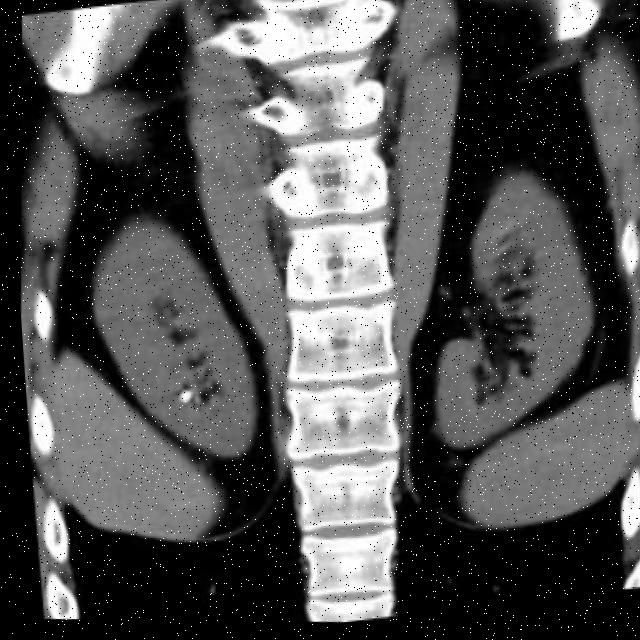Tas_Var: (171, 384, 190, 410), (187, 393, 200, 411)
